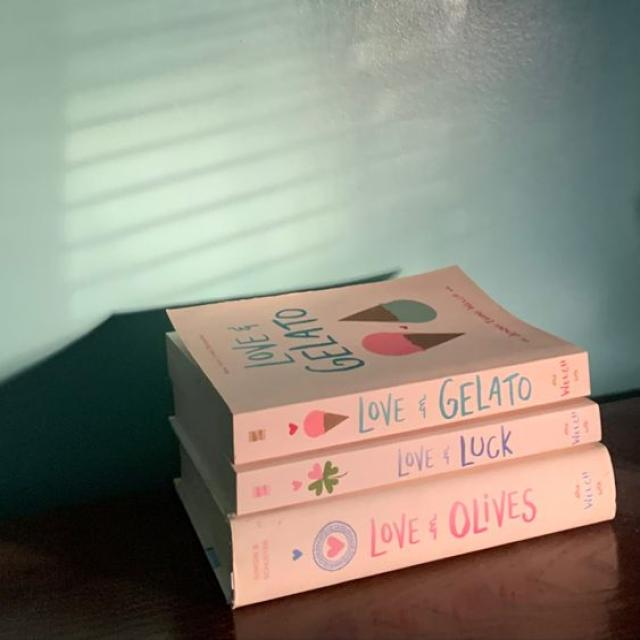book: (231, 446, 613, 610), (232, 352, 590, 466), (239, 404, 600, 516)
